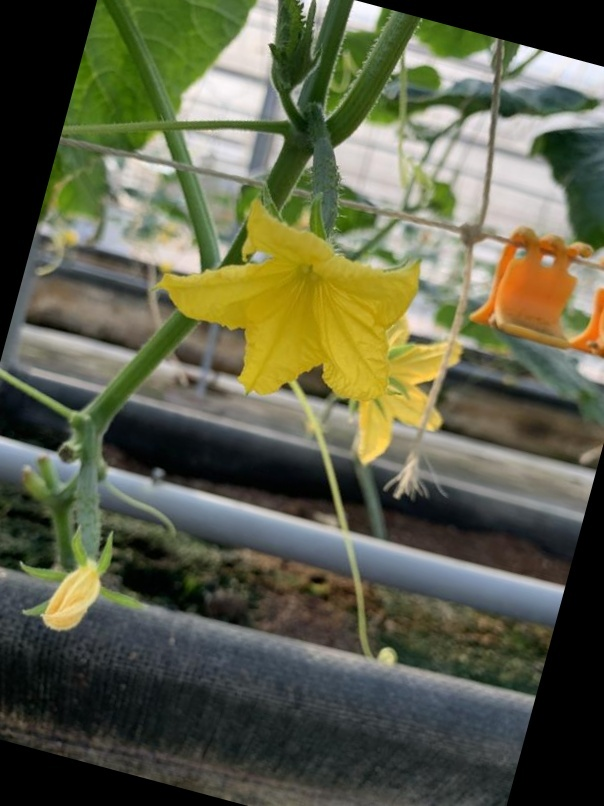flowering: (153, 122, 451, 403)
